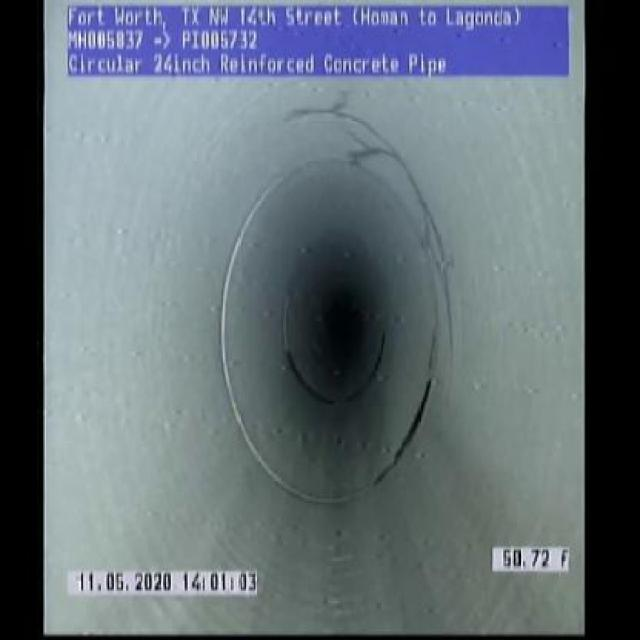Crack: (285, 103, 400, 162), (405, 162, 452, 269), (438, 270, 458, 378)
